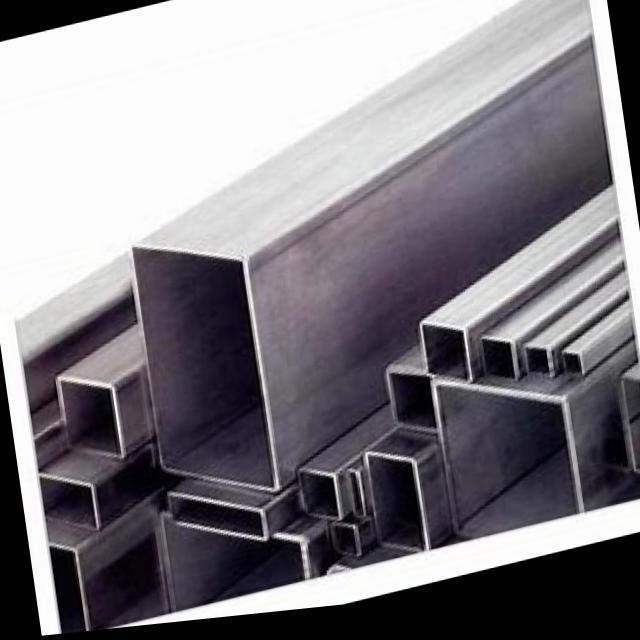pipe: (132, 250, 277, 495), (436, 393, 582, 550), (166, 532, 308, 615), (365, 461, 425, 561), (59, 381, 123, 458), (169, 499, 266, 545), (39, 476, 99, 535), (48, 549, 86, 635), (388, 379, 438, 441), (421, 334, 472, 393), (298, 476, 340, 525), (623, 391, 640, 487), (479, 350, 518, 390), (332, 532, 361, 566), (523, 360, 552, 389), (348, 480, 364, 526), (563, 365, 581, 388)
